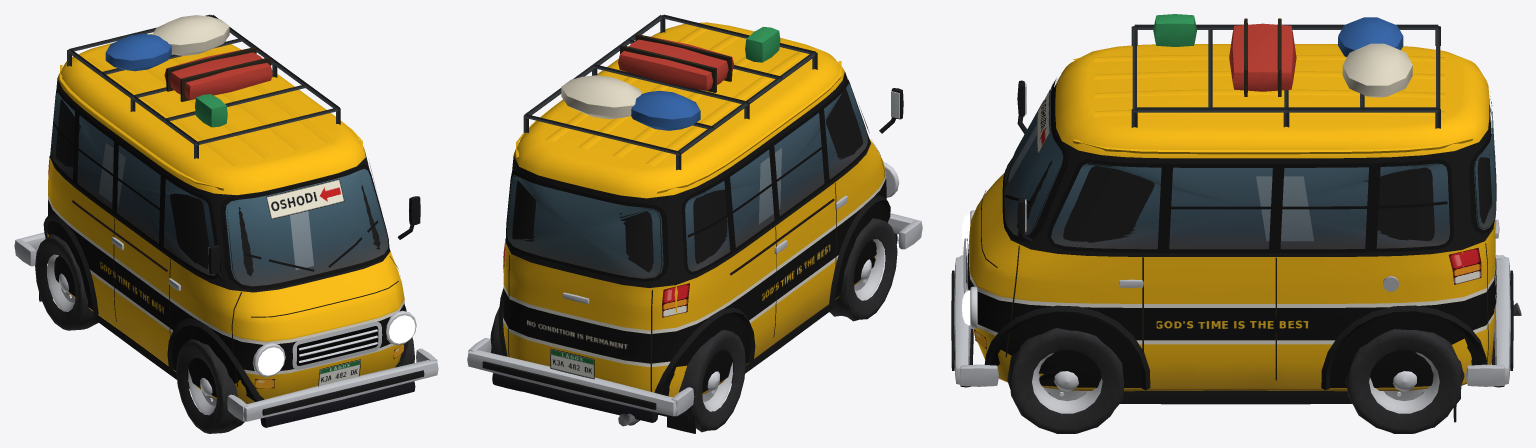
Rendered from veh_danfo.glb.
The picture shows the model from 3 angles, left to right: view 1: azimuth 30°, elevation 25°; view 2: azimuth 150°, elevation 25°; view 3: azimuth 270°, elevation 25°; orthographic projection. The views are drawn at different scales.
Visible parts, largest first — view 1: veh_danfo_body, wheel_FR, wheel_RR; view 2: veh_danfo_body, wheel_RR, wheel_FR; view 3: veh_danfo_body, wheel_FL, wheel_RL.
Part boxes in pixels (box(x1,y1,x2,y2)): veh_danfo_body: box(14, 14, 438, 427); wheel_FR: box(176, 339, 244, 433); wheel_RR: box(35, 234, 98, 330); veh_danfo_body: box(467, 14, 922, 433); wheel_RR: box(678, 330, 745, 432); wheel_FR: box(829, 218, 897, 321); veh_danfo_body: box(951, 14, 1521, 422); wheel_FL: box(1007, 328, 1124, 433); wheel_RL: box(1345, 329, 1464, 433).
Size of the model in its own units: 0.8208 by 1.06 by 1.61.
Materials: 8 (2 with a texture image).
